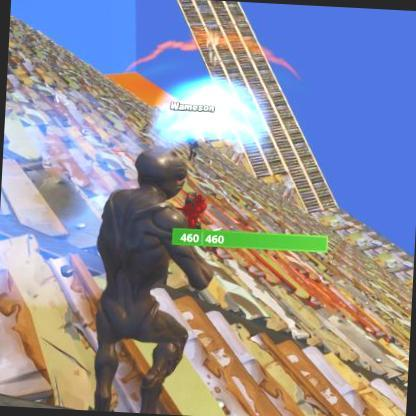person: (186, 132, 198, 160)
